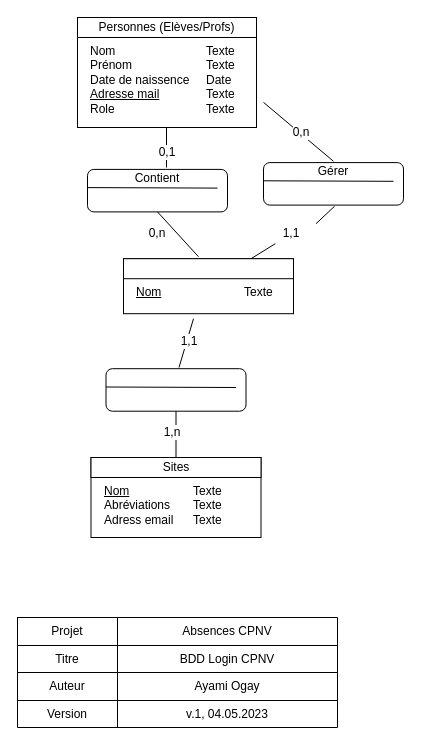
Image size: 421x745. Some labels were removed from this diagram. Each missing label, with the centre of its shape:
"Appartenir" belongs at point (175, 389).
"Classes" belongs at point (208, 268).
